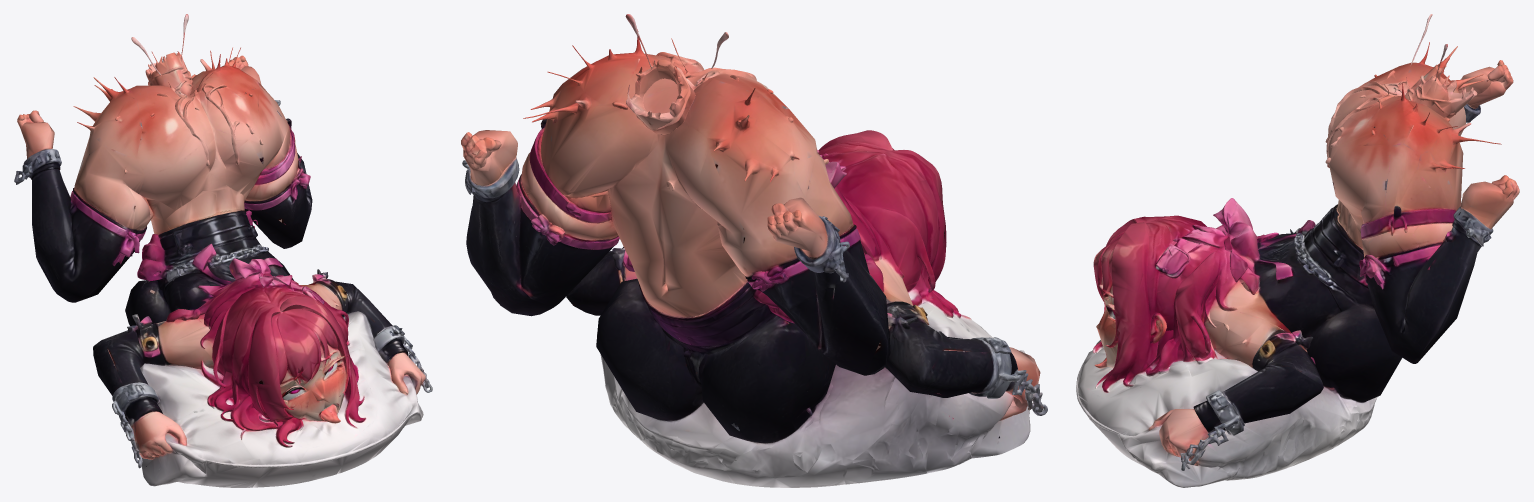
File: 01a1a7c7-6558-70b0-a212-2cbb0dd44ab2.glb
3 renders of one model, left to right at view 1: azimuth 30°, elevation 25°; view 2: azimuth 150°, elevation 25°; view 3: azimuth 270°, elevation 25°, orthographic. The views are drawn at different scales.
Parts seen in each view (by area): view 1: model; view 2: model; view 3: model.
Boxes of the visible parts, x1=… form: model: x1=14, y1=14, x2=432, y2=487; model: x1=461, y1=14, x2=1047, y2=487; model: x1=1076, y1=14, x2=1519, y2=487.
Bounding box in the file's own units: 1.44 × 1.6 × 1.66.
1 material, 1 textured.
